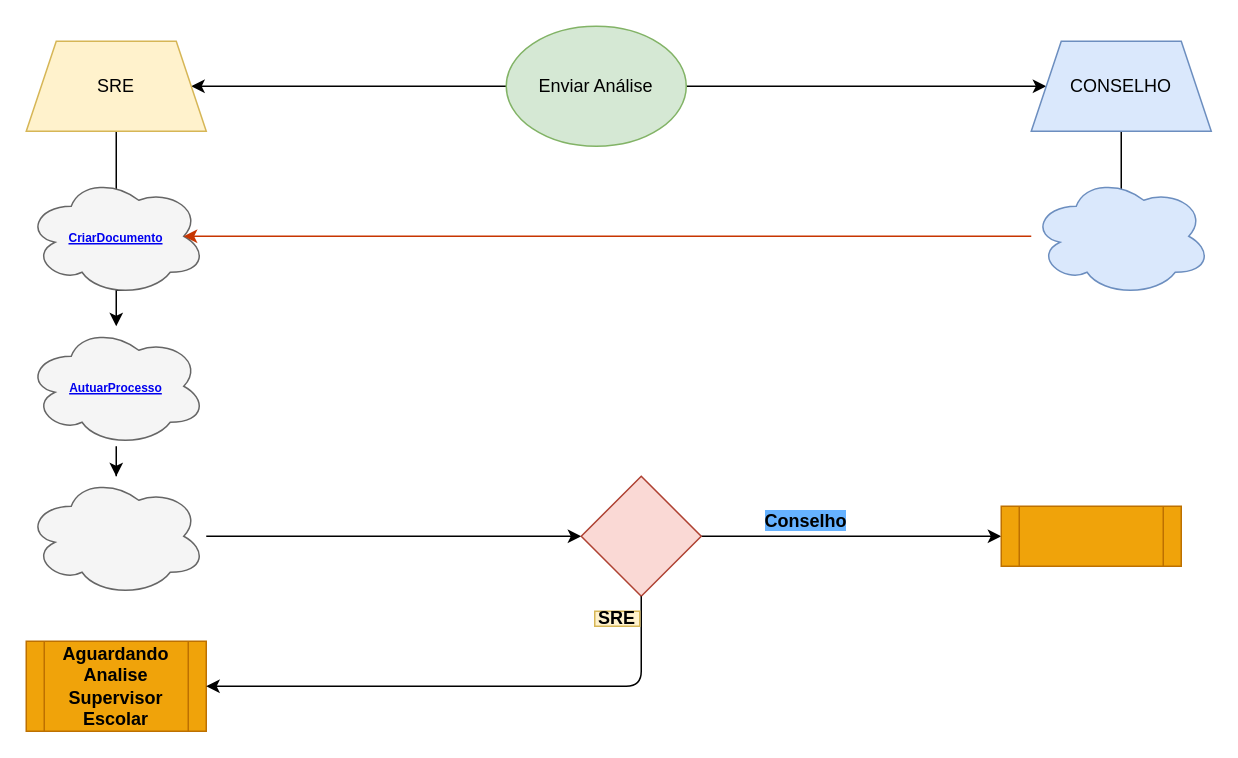
This 1238x758 diagram has some shape labels left out. The shapes that lost their labels are listed below. From the top down, each one's centre as x and y in pixels, then its label:
the point at 1120,235: Selecionar Conselho
the point at 115,535: Despachar
the point at 1090,535: Aguardando Supervisor Escolar
